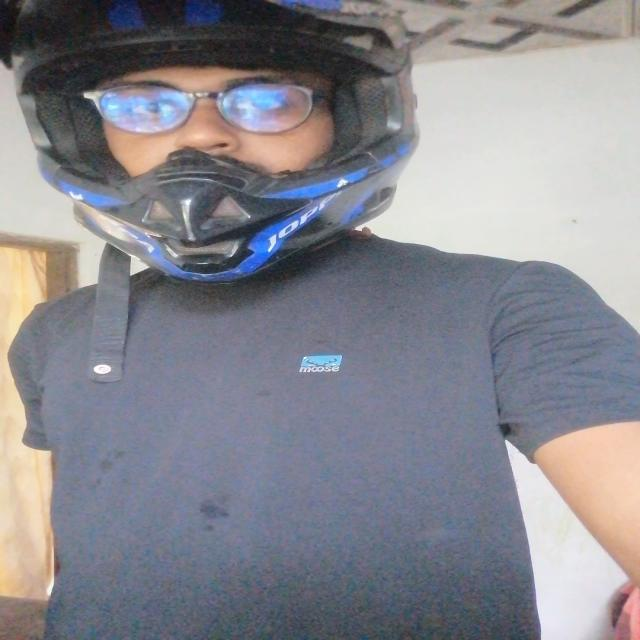Helmet_Wearer: (0, 0, 521, 324)
